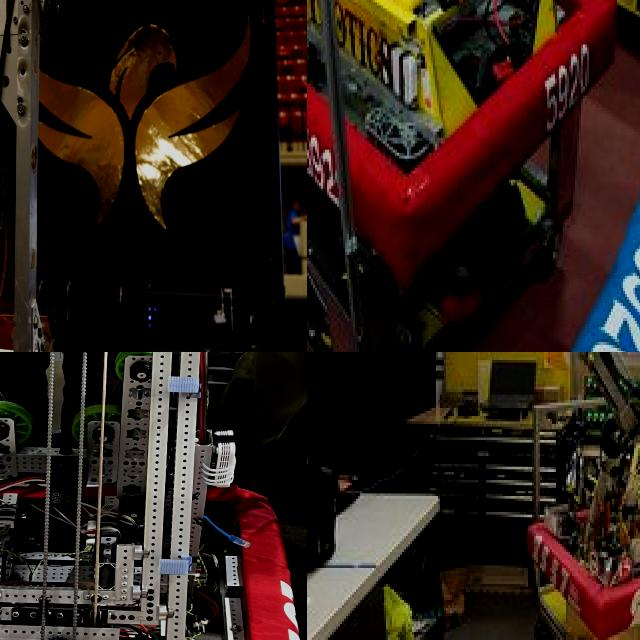FRC-Robots: (0, 352, 307, 640), (307, 0, 634, 180), (487, 352, 640, 625)
